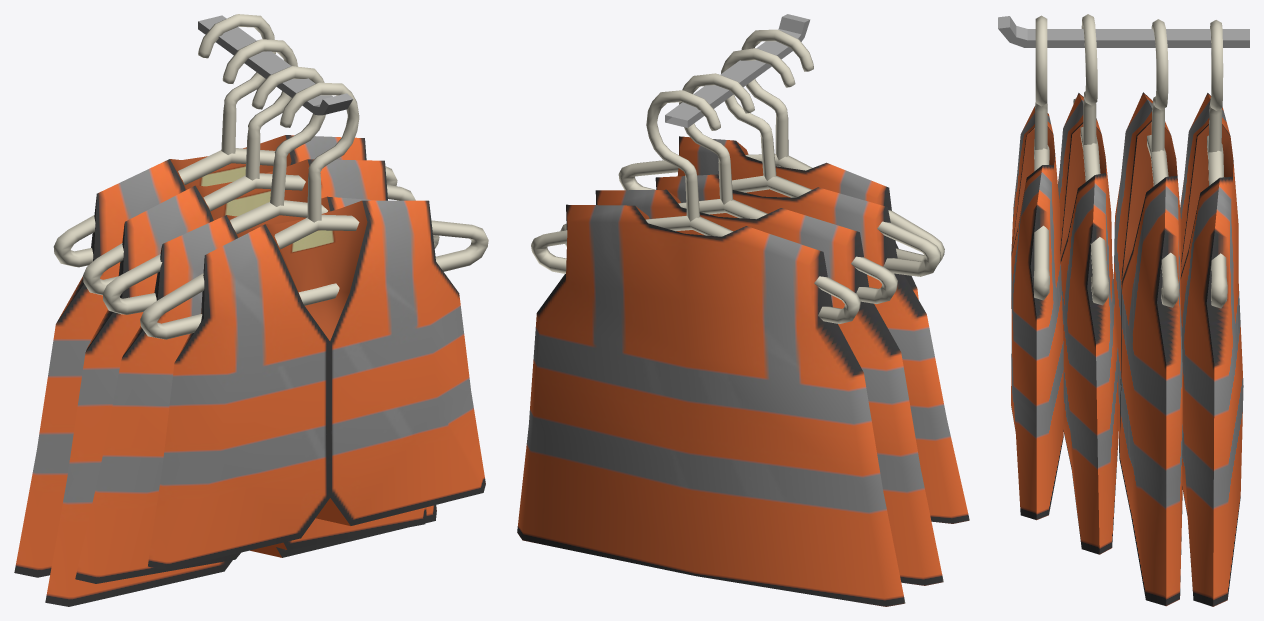
Rendered from factory_work_vest_wall_decor_02.FBX.
3 views of the same model, side by side, from view 1: azimuth 30°, elevation 25°; view 2: azimuth 150°, elevation 25°; view 3: azimuth 270°, elevation 25° (orthographic). The views are drawn at different scales.
Parts seen in each view (by area): view 1: Object081; view 2: Object081; view 3: Object081.
Boxes of the visible parts, <box> form: Object081: <box>14,14,488,606</box>; Object081: <box>517,14,969,606</box>; Object081: <box>998,14,1249,606</box>.
Bounding box in the file's own units: 15.35 × 8.41 × 18.41.
